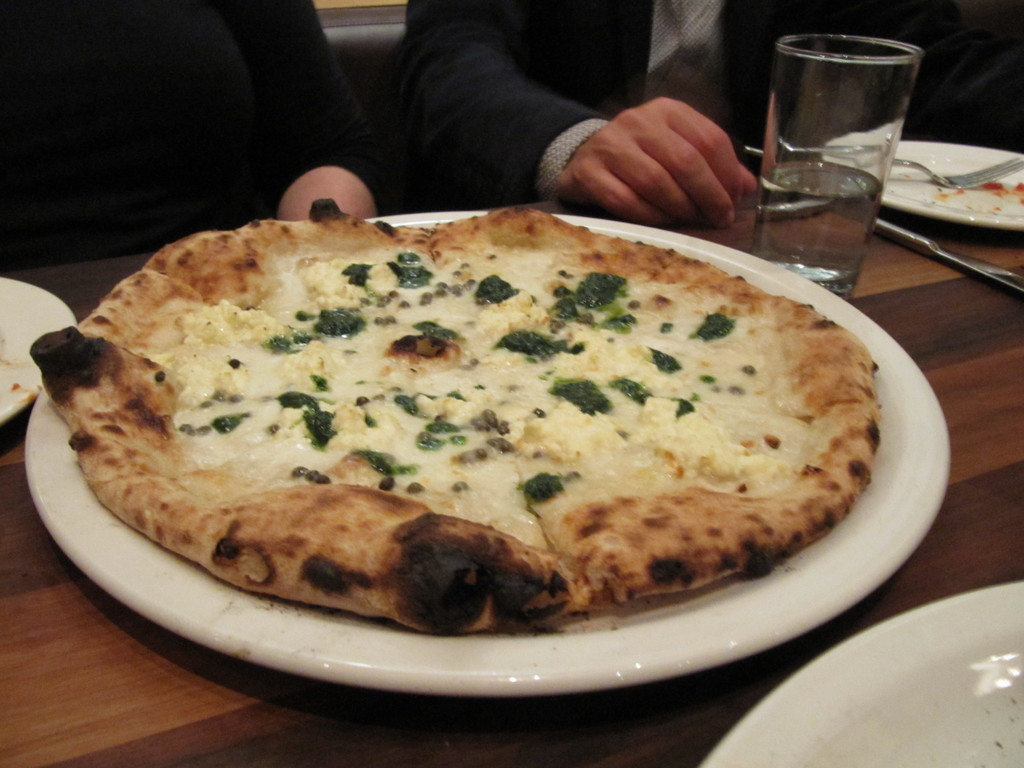Pizza: (17, 210, 876, 675)
